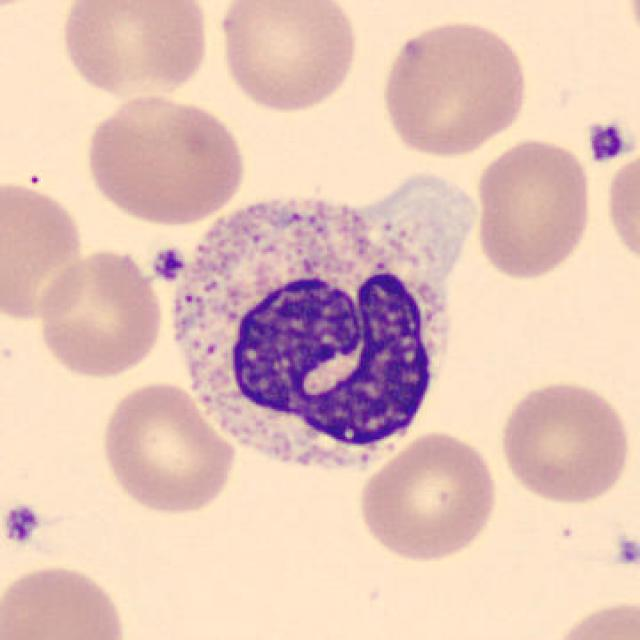Monocyte: (160, 183, 464, 490)
Platelets: (583, 118, 631, 166), (0, 501, 43, 546), (149, 245, 187, 282), (610, 531, 638, 571)
RBC: (80, 91, 251, 228), (375, 14, 532, 161), (354, 427, 503, 564), (96, 378, 240, 518), (494, 376, 635, 508), (471, 134, 596, 282), (34, 245, 167, 381), (213, 0, 362, 116), (55, 0, 213, 100), (0, 174, 89, 324), (0, 559, 132, 640), (602, 144, 640, 275), (548, 596, 638, 640), (0, 0, 59, 18)
